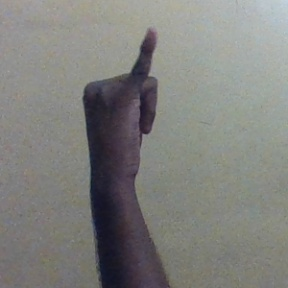I: (80, 25, 166, 182)
